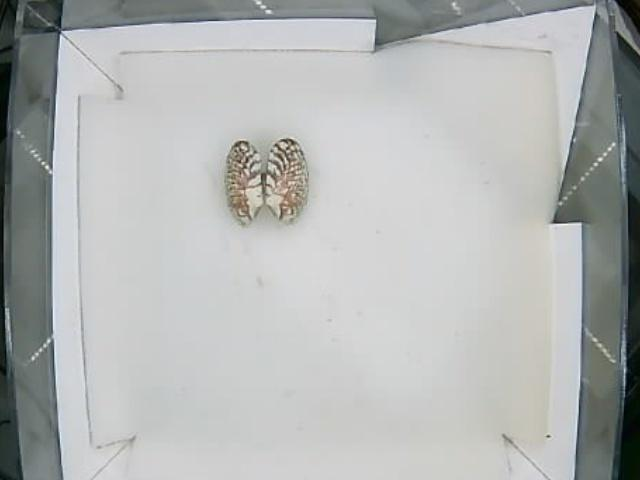Shell: (221, 137, 309, 230)
